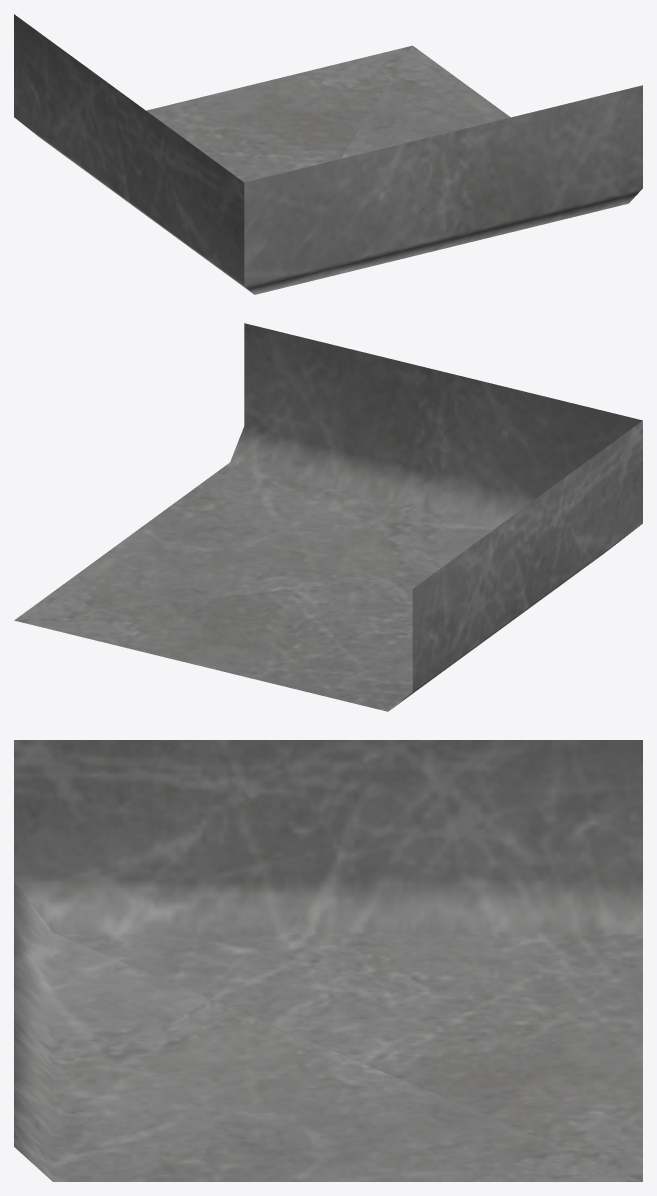
The model's file is Psychiatric_Ward_Infirmary_Ceiling_Crowning_Corner_B.glb.
3 renders of one model, top to bottom at view 1: azimuth 30°, elevation 25°; view 2: azimuth 150°, elevation 25°; view 3: azimuth 270°, elevation 25°, orthographic. The views are drawn at different scales.
Visible parts, largest first — view 1: Psychiatric_Ward_Infirmary_Ceiling_Crowning_Corner_B; view 2: Psychiatric_Ward_Infirmary_Ceiling_Crowning_Corner_B; view 3: Psychiatric_Ward_Infirmary_Ceiling_Crowning_Corner_B.
Part boxes in pixels (x1,y1,x2,y2): Psychiatric_Ward_Infirmary_Ceiling_Crowning_Corner_B: [14, 14, 642, 294]; Psychiatric_Ward_Infirmary_Ceiling_Crowning_Corner_B: [14, 323, 642, 711]; Psychiatric_Ward_Infirmary_Ceiling_Crowning_Corner_B: [14, 740, 642, 1181].
Size of the model in its own units: 0.5621 by 0.1736 by 0.5621.
1 material, 1 textured.
